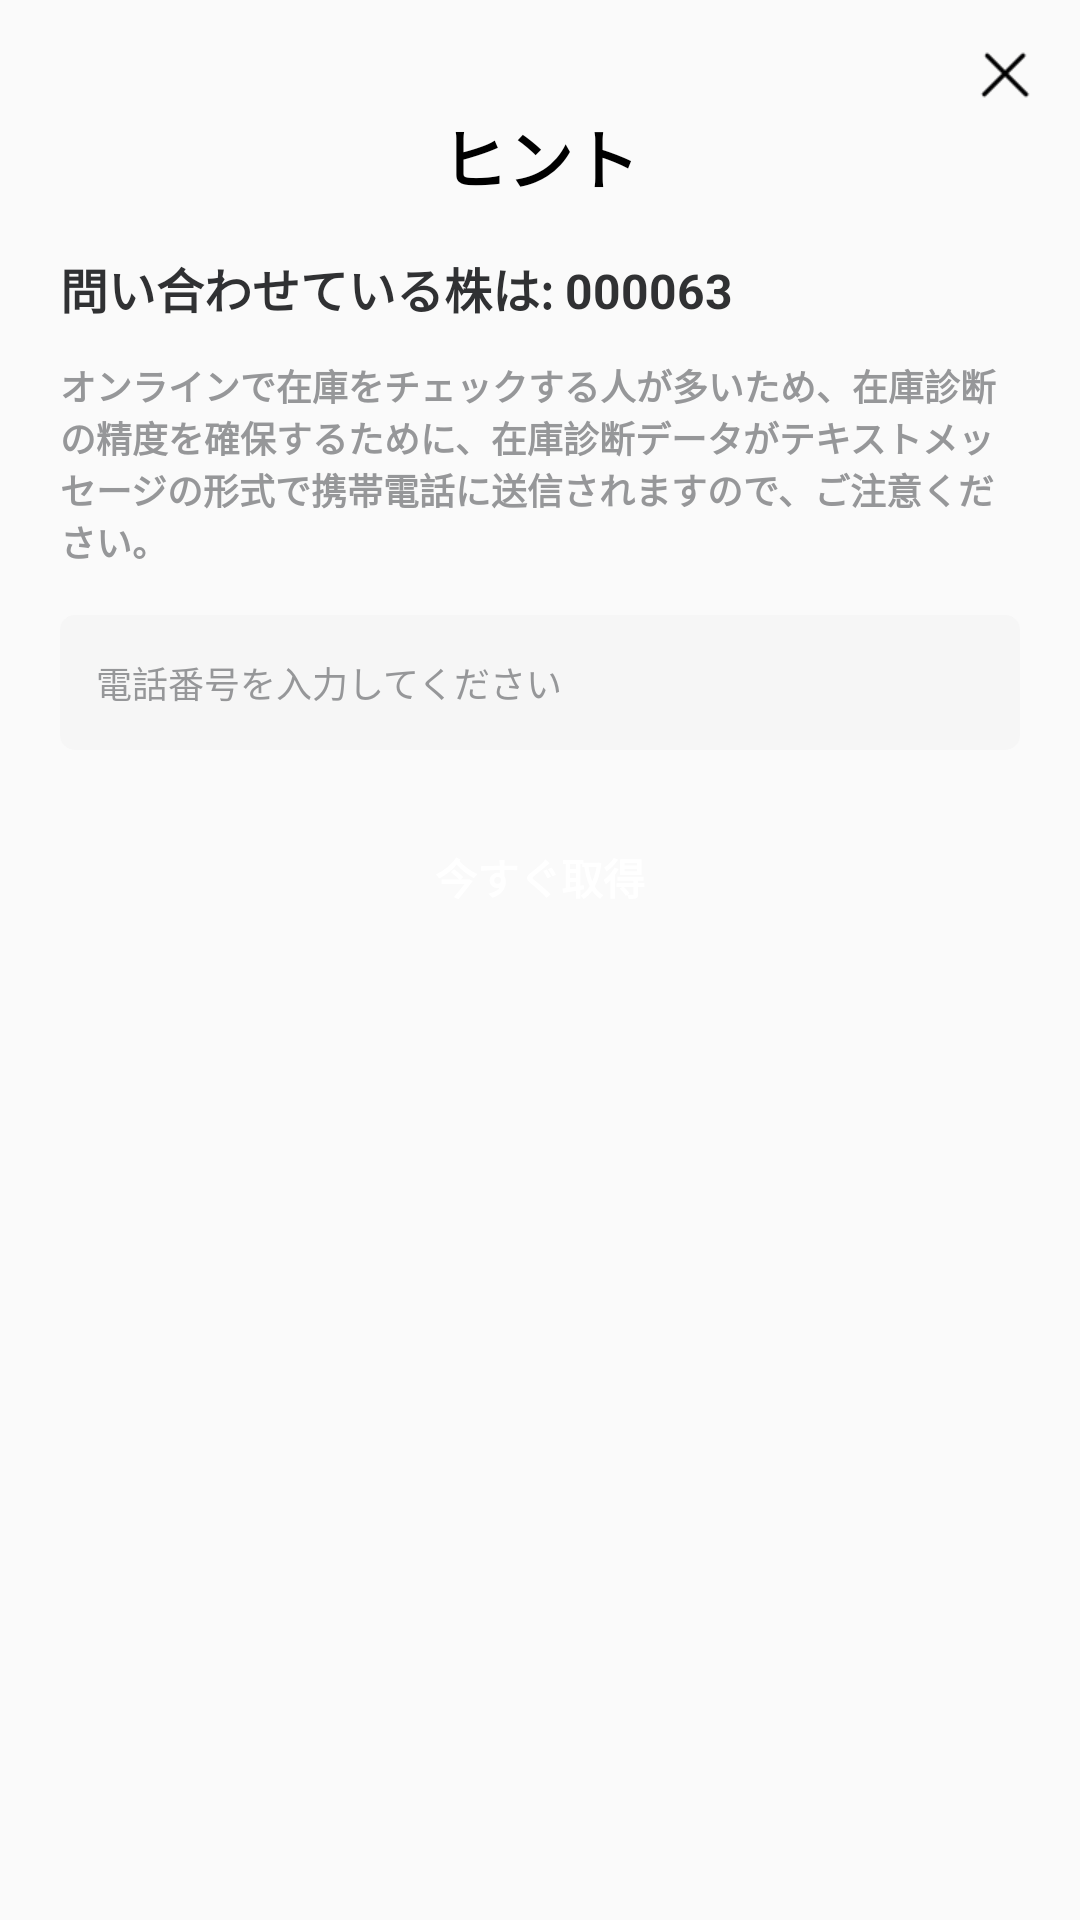

Point at icon controls on the screen. Image size 1080px×1920px, points as [x,y].
close: [1005,75]
